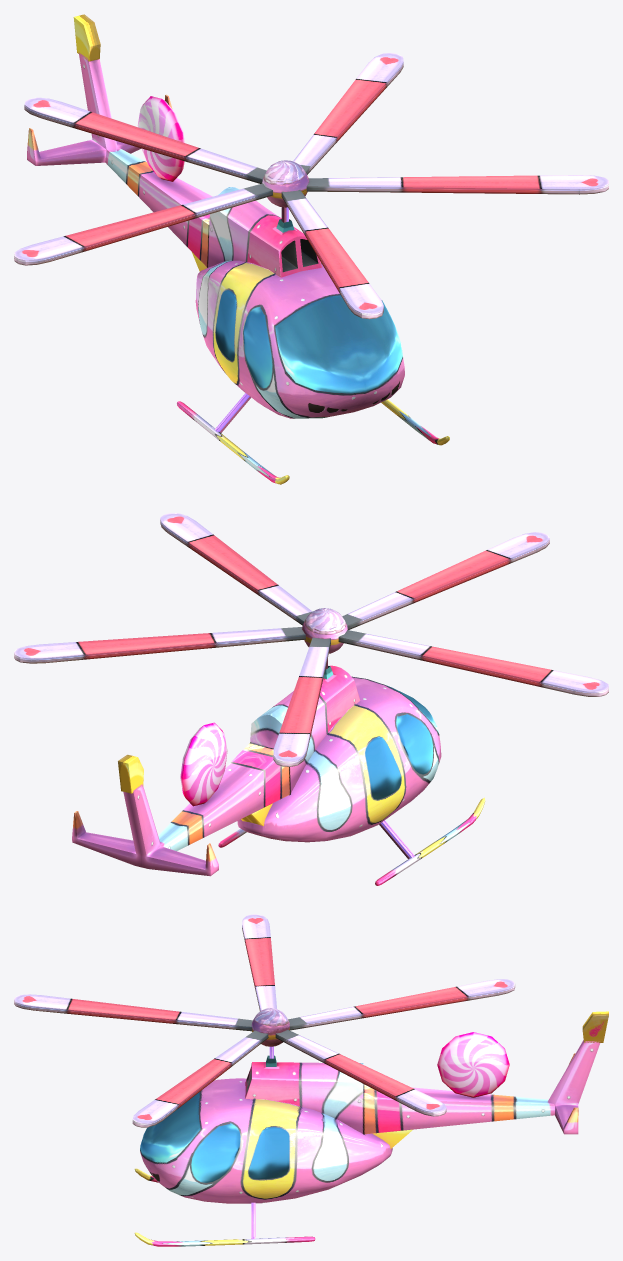
The model's file is candyHelicopter.glb.
3 renders of one model, top to bottom at view 1: azimuth 30°, elevation 25°; view 2: azimuth 150°, elevation 25°; view 3: azimuth 270°, elevation 25°, orthographic. The views are drawn at different scales.
Visible parts, largest first — view 1: candyHelicopter; view 2: candyHelicopter; view 3: candyHelicopter.
Boxes of the visible parts, bbox=[...] form: candyHelicopter: bbox=[14, 14, 608, 484]; candyHelicopter: bbox=[14, 513, 608, 885]; candyHelicopter: bbox=[14, 914, 608, 1246].
Size of what is drawn, in the model's own units: 11.46 by 5.23 by 13.79.
Materials: 1 (1 with a texture image).
